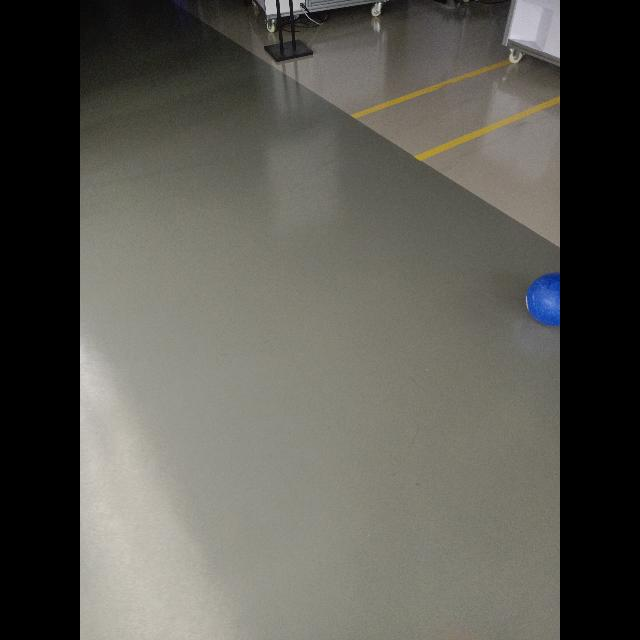B: (528, 272, 560, 328)
